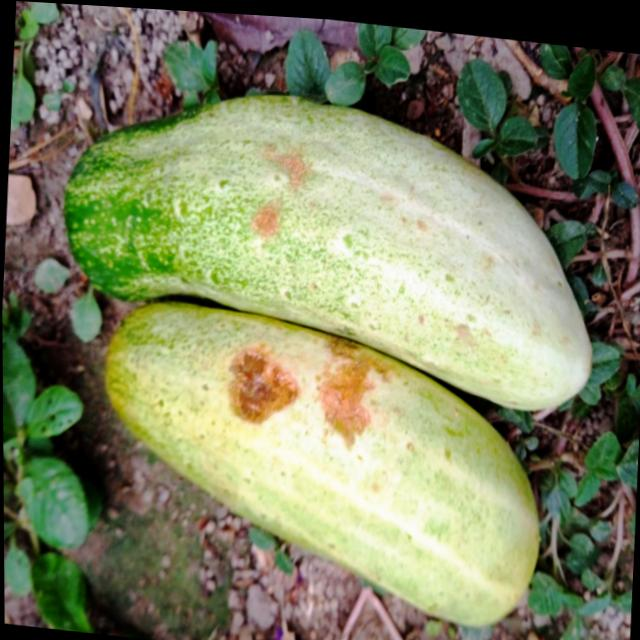Belly-Rot: (225, 316, 399, 447), (243, 138, 314, 244)
